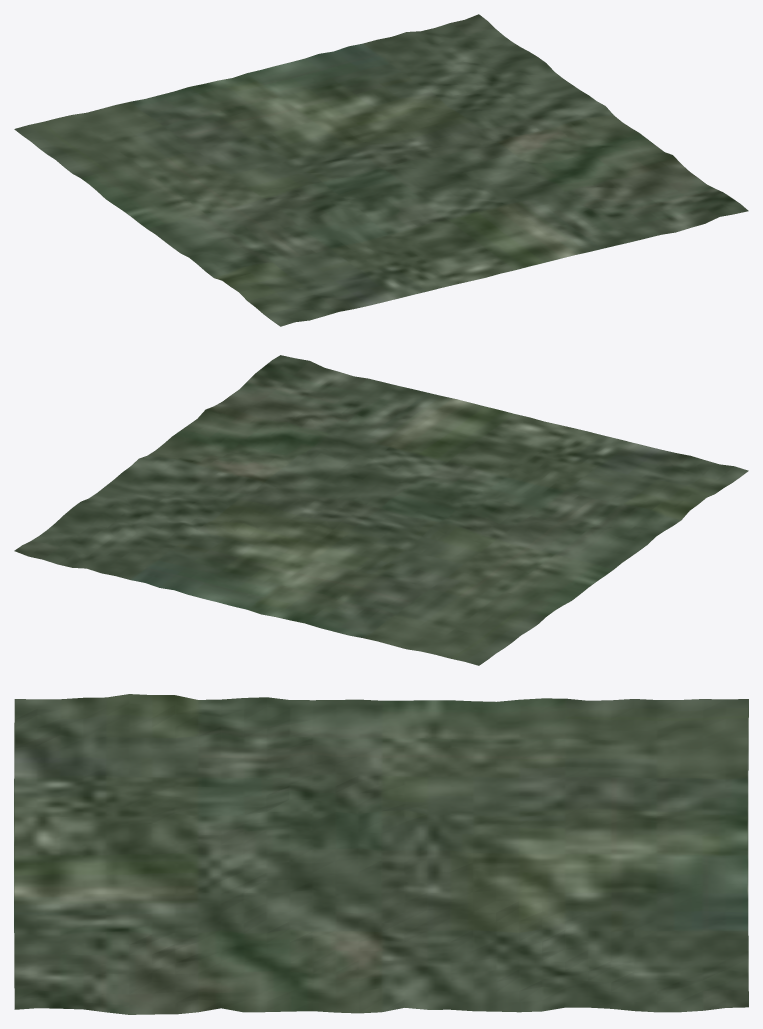
The picture shows the model from 3 angles, top to bottom: view 1: azimuth 30°, elevation 25°; view 2: azimuth 150°, elevation 25°; view 3: azimuth 270°, elevation 25°; orthographic projection. The views are drawn at different scales.
Bounding box in the file's own units: 62462 × 990 × 62025.
1 material, 1 textured.
